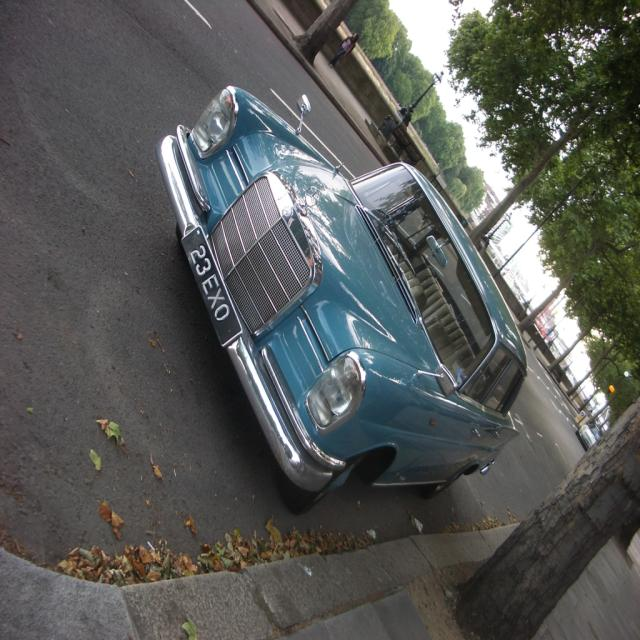car: (156, 80, 528, 516)
